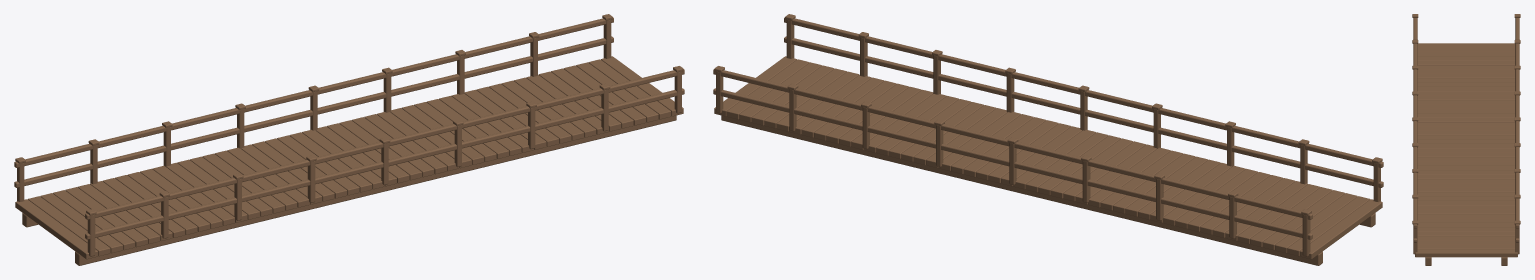
The model's file is SM_TimberBridge.fbx.
The picture shows the model from 3 angles, left to right: view 1: azimuth 30°, elevation 25°; view 2: azimuth 150°, elevation 25°; view 3: azimuth 270°, elevation 25°; orthographic projection. The views are drawn at different scales.
Visible parts, largest first — view 1: SM_TimberBridge; view 2: SM_TimberBridge; view 3: SM_TimberBridge.
Boxes of the visible parts, box(x1,y1,x2,y2) form: SM_TimberBridge: box(14, 14, 684, 265); SM_TimberBridge: box(713, 14, 1383, 265); SM_TimberBridge: box(1412, 14, 1520, 265).
Size of the model in its own units: 16 by 3.47 by 1.51.
